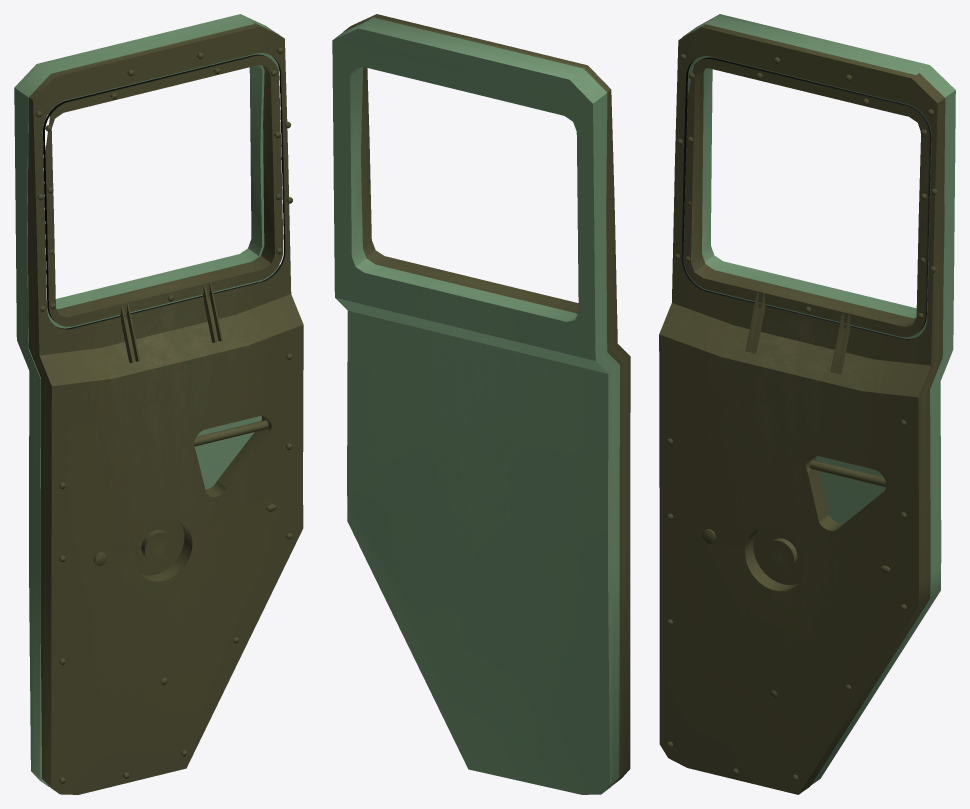
File: Back_door.gltf
3 views of the same model, side by side, from view 1: azimuth 30°, elevation 25°; view 2: azimuth 150°, elevation 25°; view 3: azimuth 330°, elevation 25° (orthographic). The views are drawn at different scales.
Parts seen in each view (by area): view 1: Back_door; view 2: Back_door; view 3: Back_door.
Boxes of the visible parts, <box> form: Back_door: <box>14,14,303,794</box>; Back_door: <box>332,14,630,794</box>; Back_door: <box>659,14,955,794</box>.
Size of what is drawn, in the model's own units: 0.3255 by 0.8601 by 0.0855.
3 materials, 3 textured.
